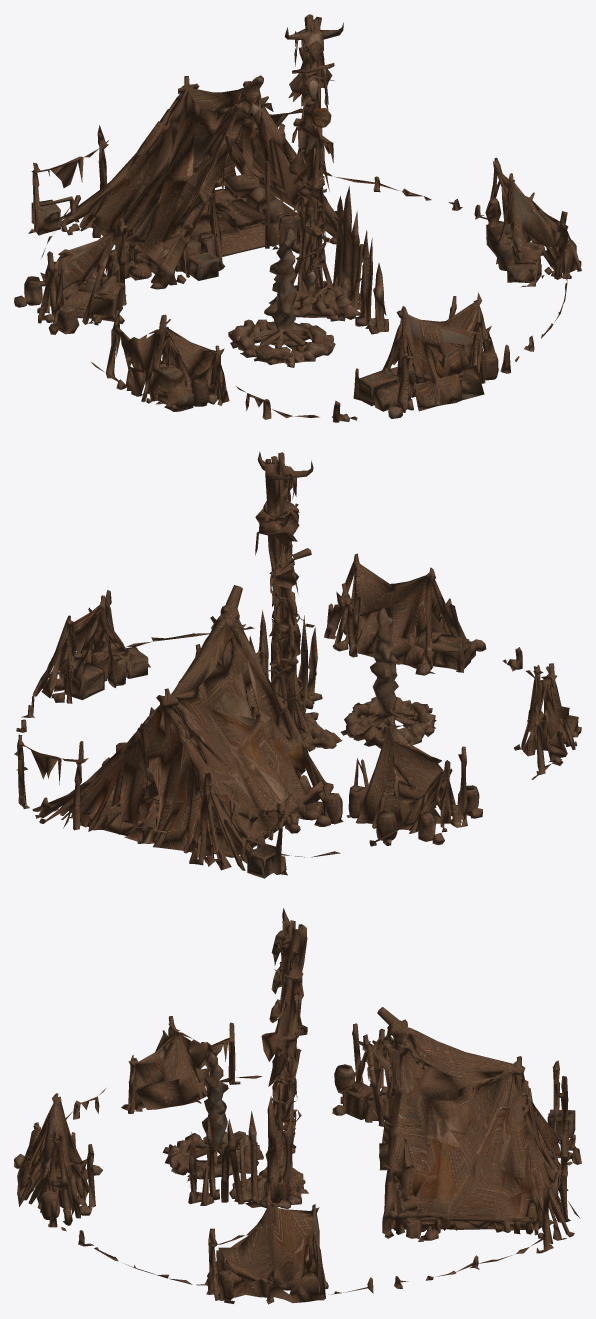
Rendered from raider-camp.glb.
3 renders of one model, top to bottom at view 1: azimuth 30°, elevation 25°; view 2: azimuth 150°, elevation 25°; view 3: azimuth 270°, elevation 25°, orthographic. The views are drawn at different scales.
Visible parts, largest first — view 1: Mesh_0; view 2: Mesh_0; view 3: Mesh_0.
Part boxes in pixels (left/top/right/bottom): Mesh_0: left=14, top=14, right=581, bottom=422; Mesh_0: left=14, top=451, right=581, bottom=878; Mesh_0: left=14, top=908, right=581, bottom=1304.
Bounding box in the file's own units: 14.04 × 7.99 × 15.08.
Materials: 1 (1 with a texture image).
